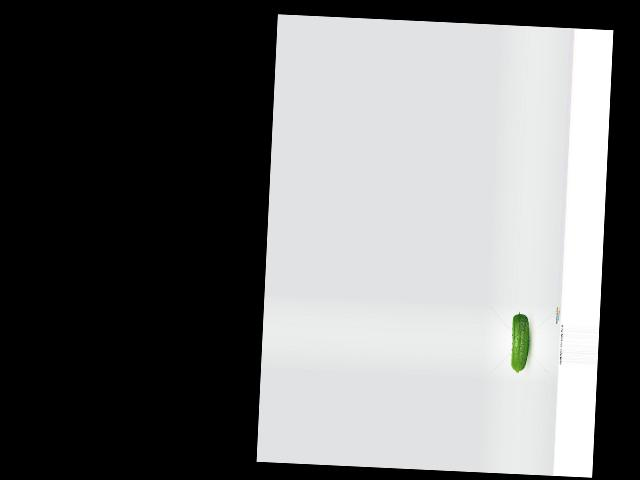cucumber: (510, 311, 530, 373)
